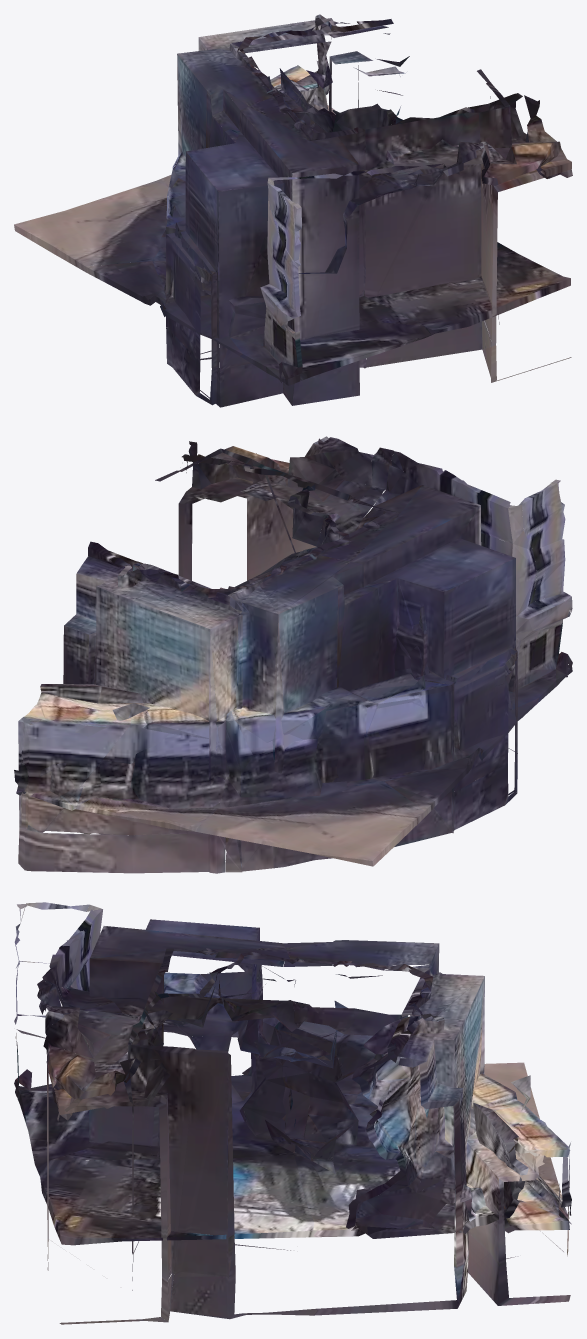
The picture shows the model from 3 angles, top to bottom: view 1: azimuth 30°, elevation 25°; view 2: azimuth 150°, elevation 25°; view 3: azimuth 270°, elevation 25°; orthographic projection. The views are drawn at different scales.
Visible parts, largest first — view 1: Mesh_0; view 2: Mesh_0; view 3: Mesh_0.
Boxes of the visible parts, x1=… form: Mesh_0: x1=14, y1=14, x2=572, y2=407; Mesh_0: x1=14, y1=436, x2=572, y2=873; Mesh_0: x1=14, y1=902, x2=571, y2=1324.
Size of the model in its own units: 33.29 by 22.05 by 41.57.
Materials: 2 (2 with a texture image).
